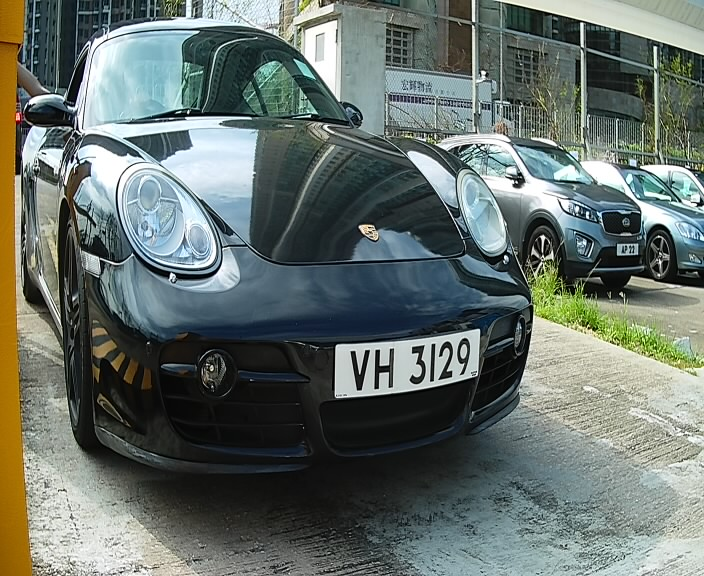Car: (2, 2, 546, 513)
License Plate: (322, 321, 488, 411)
